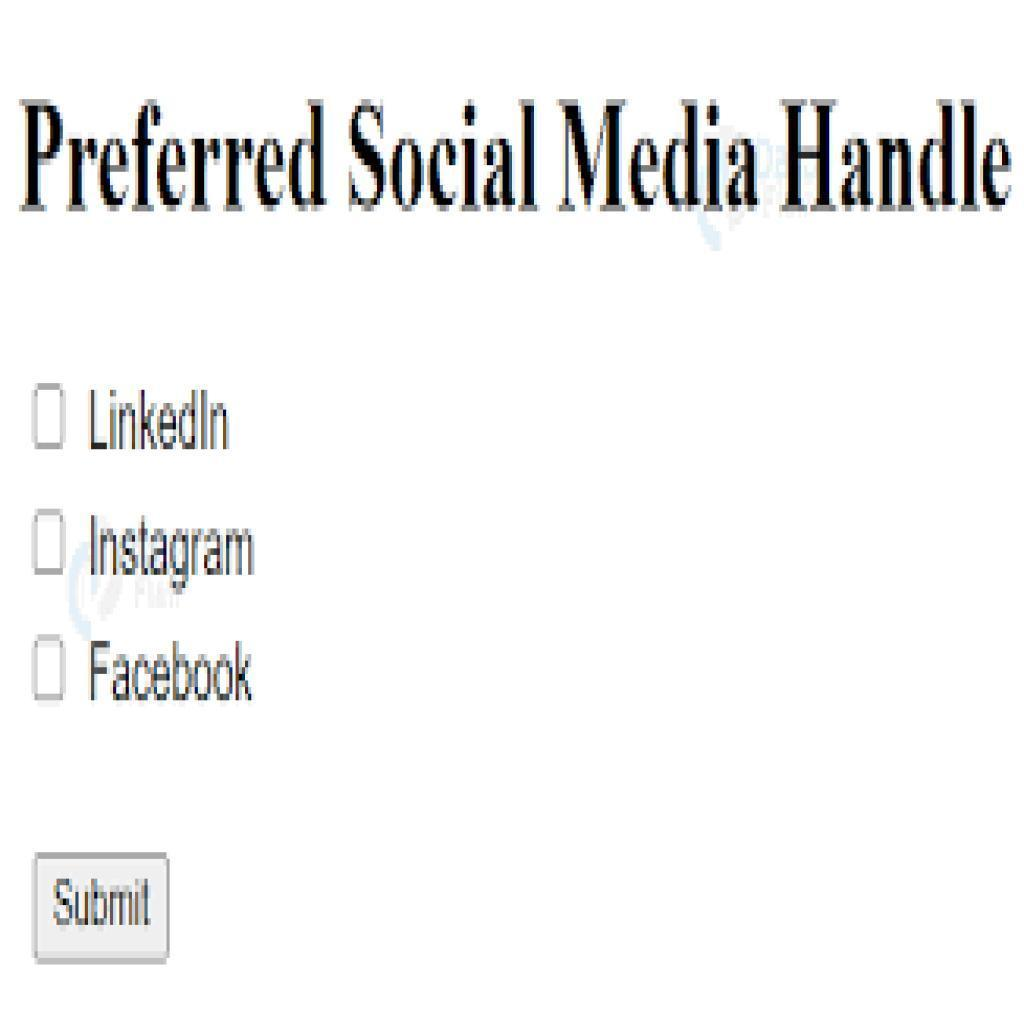button: (34, 856, 171, 962)
checkbox: (33, 636, 66, 704), (35, 385, 64, 445), (34, 515, 63, 573)
label: (85, 511, 261, 589), (88, 637, 259, 707), (84, 385, 238, 458)
